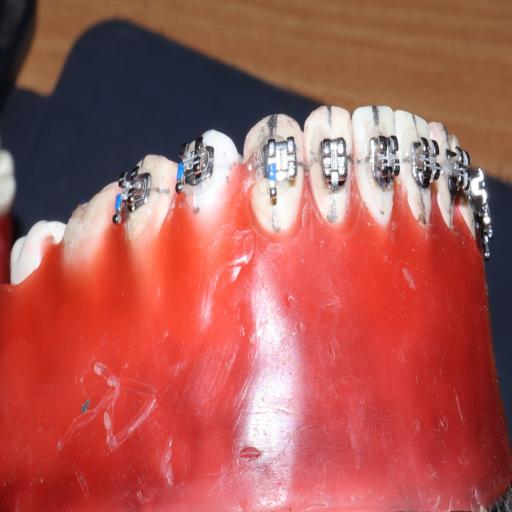correct_brace: (316, 135, 350, 198)
incorrect_brace: (302, 100, 356, 233), (258, 130, 298, 210)
